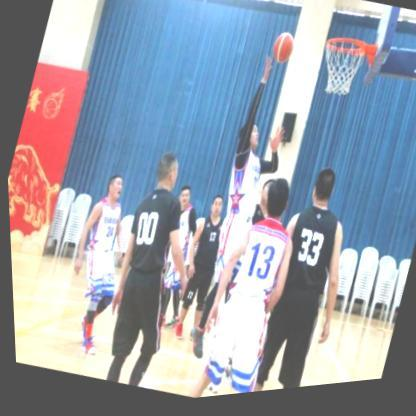basketball: (268, 34, 298, 73)
rim: (311, 37, 371, 109)
